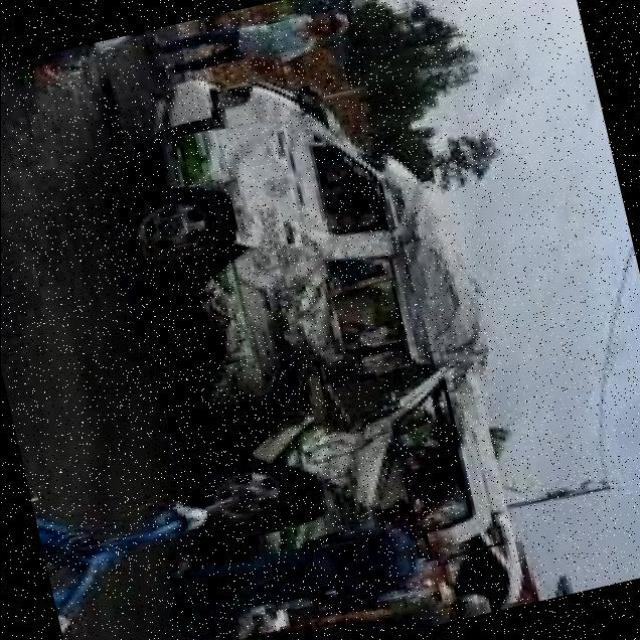accident: (105, 27, 527, 640)
